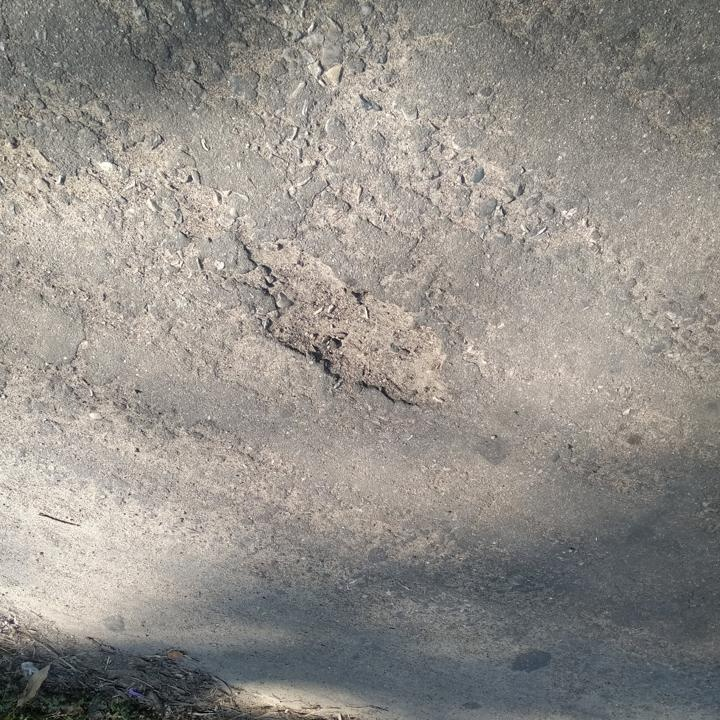pothole: (235, 236, 454, 413)
